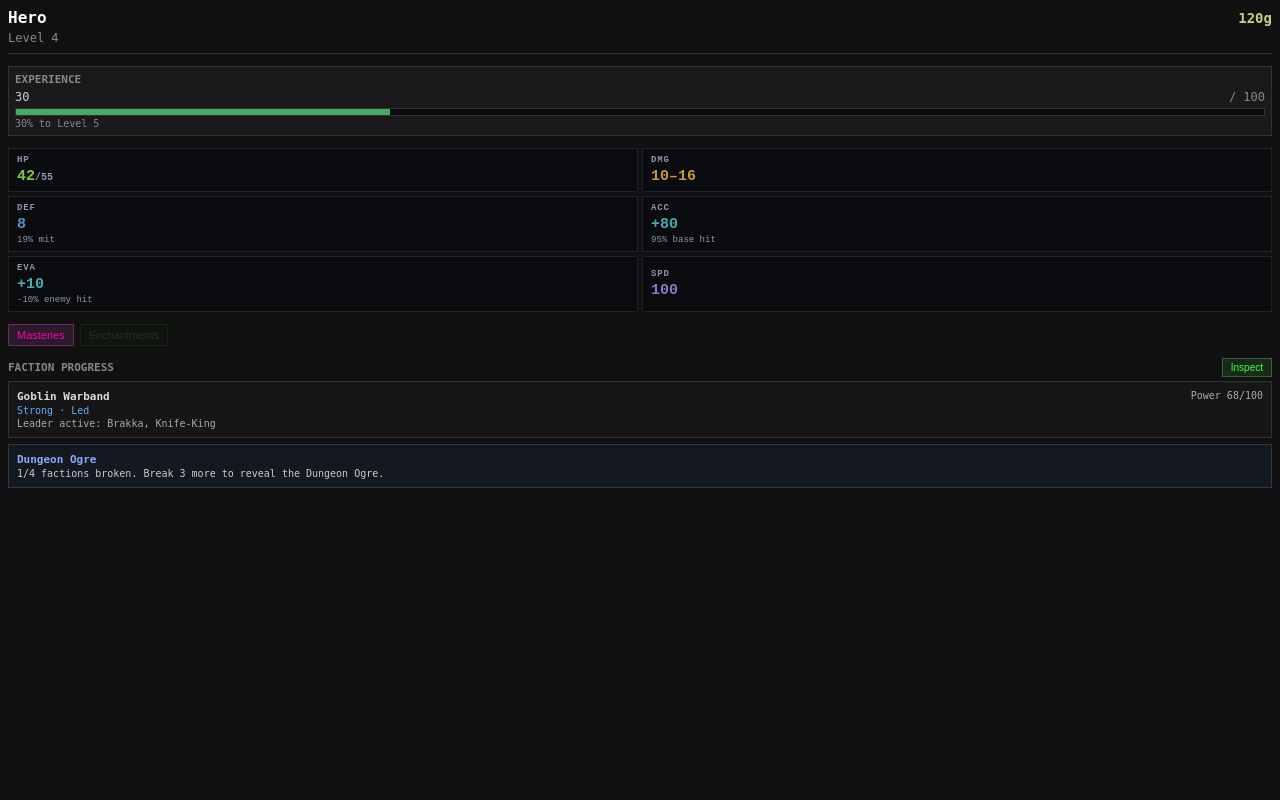
CharacterScreen faction progress › does not render stale mastery detail state for a missing weapon key
What coordinates should you click on to do the following:
click the button "Masteries"
I would click on:
 (41, 335)
Its box is [8,324,74,346].
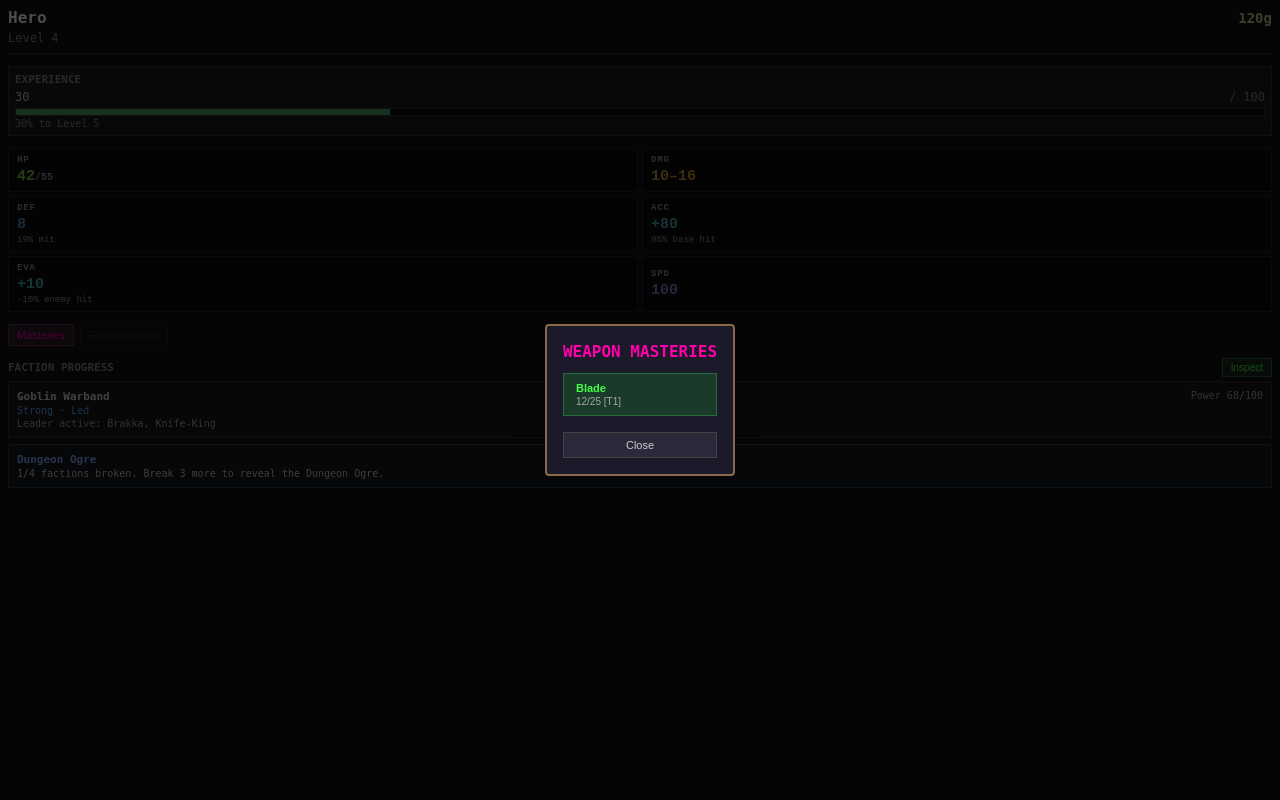
What coordinates should you click on to do the following:
click the button "blade 12/25 [T1]"
I would click on:
 (640, 394)
Its box is [563,373,717,416].
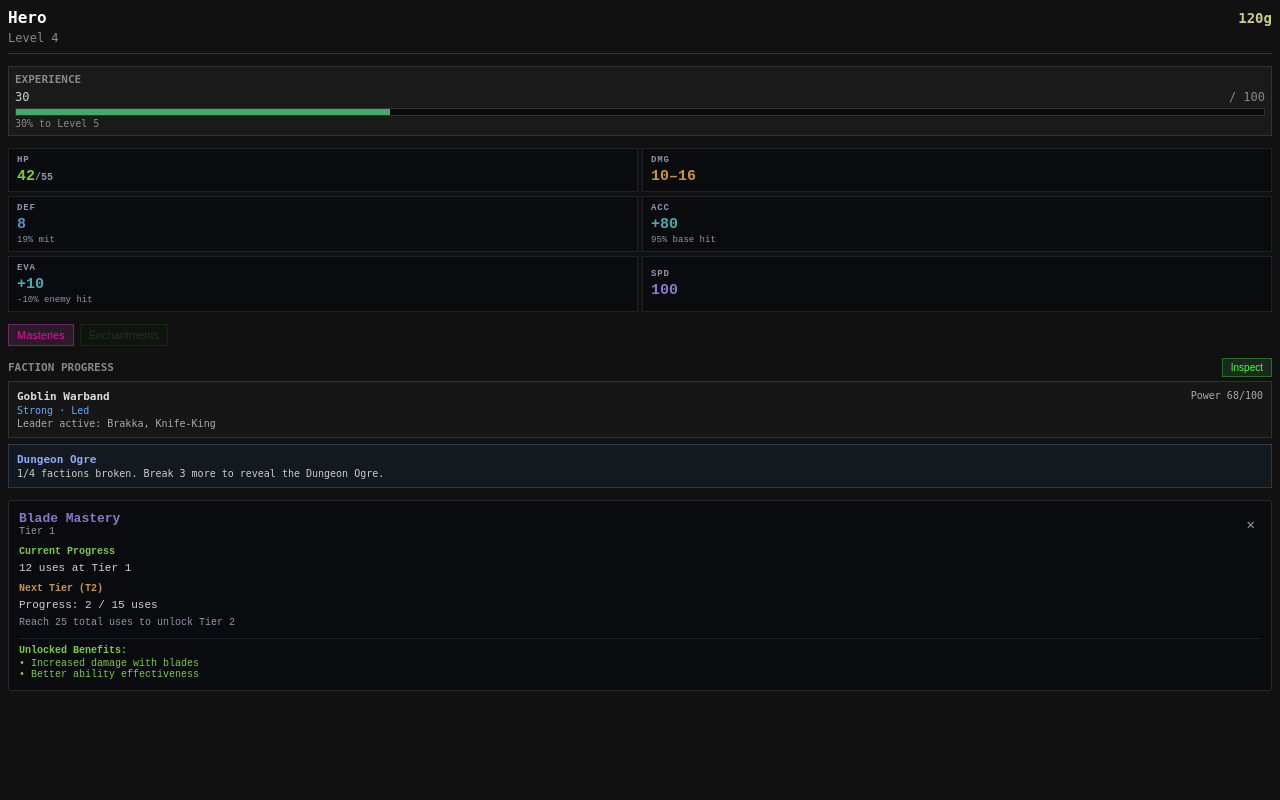
Check: the text "blade Mastery" is shown, box [19,511,120,526]
